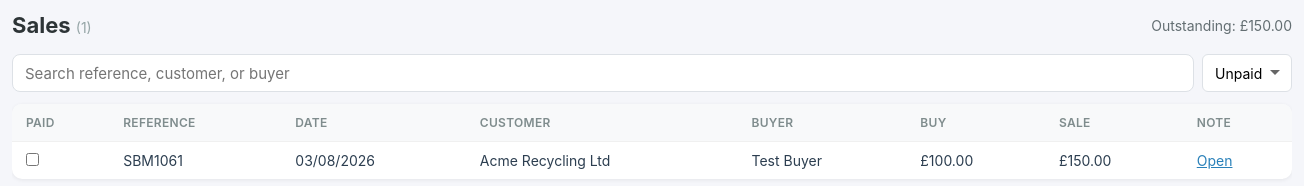
Test case: the sales page › ticks a sale as paid and reloads, so it drops off the list
Click the checkbox named "Paid, SBM1061": (32,160) top-left (26, 153), bottom-right (39, 166)
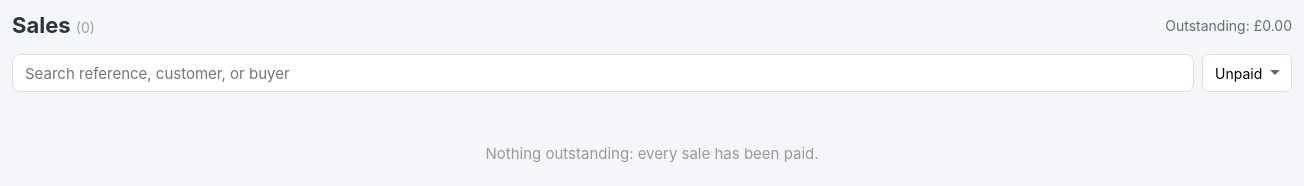
Check: the text "Nothing outstanding: every sale has been paid." is shown, box top-left (486, 144), bottom-right (819, 163)
